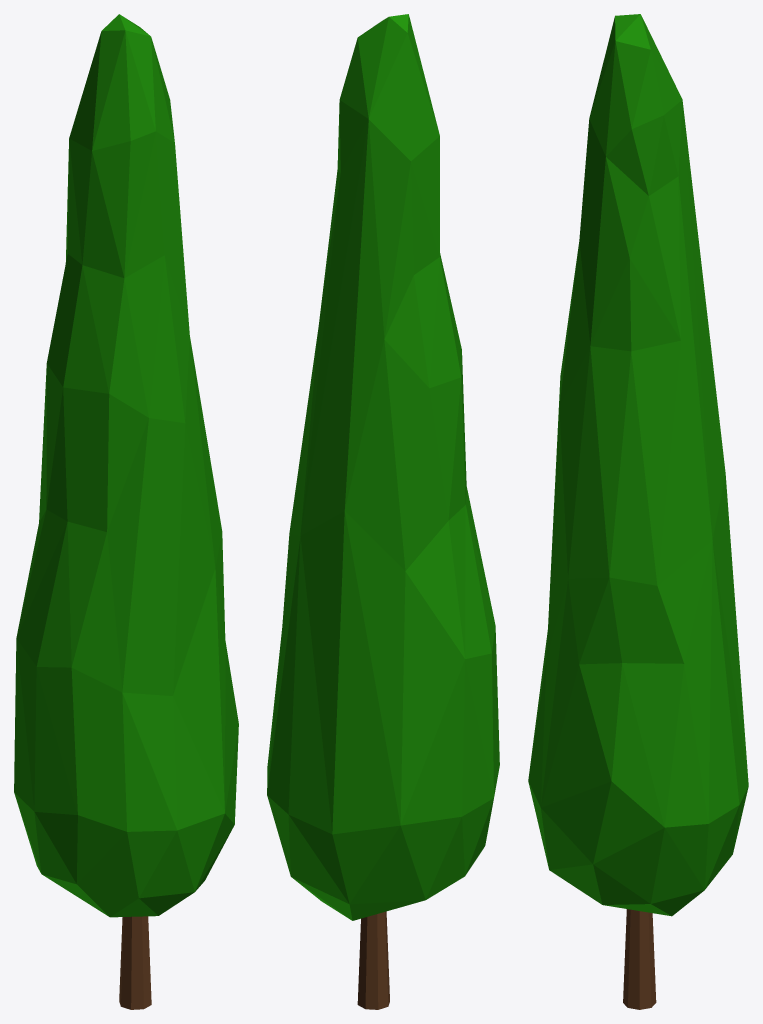
File: cypressTreeC.fbx
3 views of the same model, side by side, from view 1: azimuth 30°, elevation 25°; view 2: azimuth 150°, elevation 25°; view 3: azimuth 270°, elevation 25° (orthographic).
Parts seen in each view (by area): view 1: cypressTreeC_geo; view 2: cypressTreeC_geo; view 3: cypressTreeC_geo.
Boxes of the visible parts, x1,y1,x2,y2 form: cypressTreeC_geo: (14,14,238,1009); cypressTreeC_geo: (267,14,499,1009); cypressTreeC_geo: (528,14,748,1009).
Size of the model in its own units: 233 by 1078 by 220.
